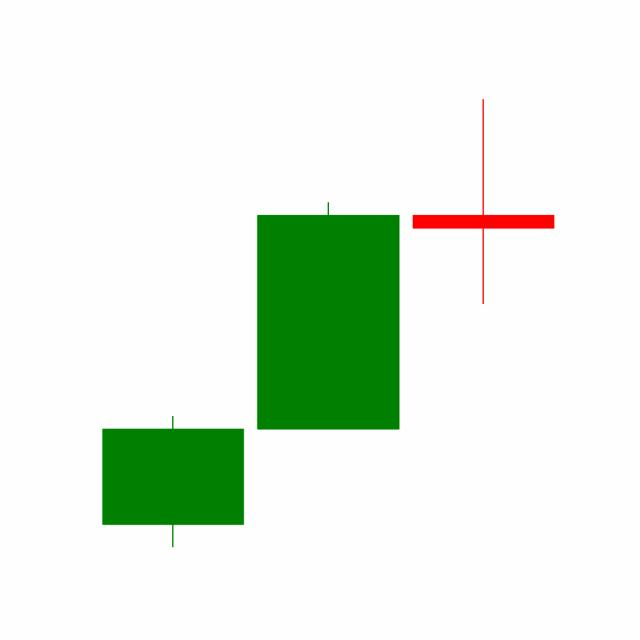Marubozu: (249, 199, 406, 431)
